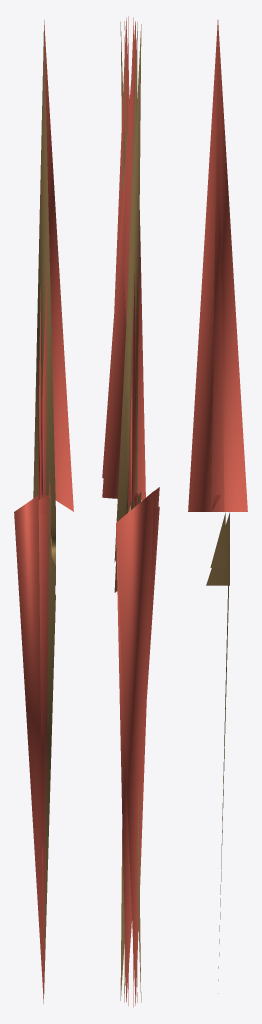
The model's file is equip_weapon_dragon_scimitar.glb.
3 views of the same model, side by side, from view 1: azimuth 90°, elevation 25°; view 2: azimuth 150°, elevation 25°; view 3: azimuth 270°, elevation 25° (orthographic).
Parts seen in each view (by area): view 1: equip_weapon_dragon_scimitar; view 2: equip_weapon_dragon_scimitar; view 3: equip_weapon_dragon_scimitar.
Boxes of the visible parts, x1,y1,x2,y2 form: equip_weapon_dragon_scimitar: [14, 20, 73, 1003]; equip_weapon_dragon_scimitar: [102, 16, 159, 1007]; equip_weapon_dragon_scimitar: [188, 20, 247, 993].
Bounding box in the file's own units: 0.11 × 2 × 0.11.
